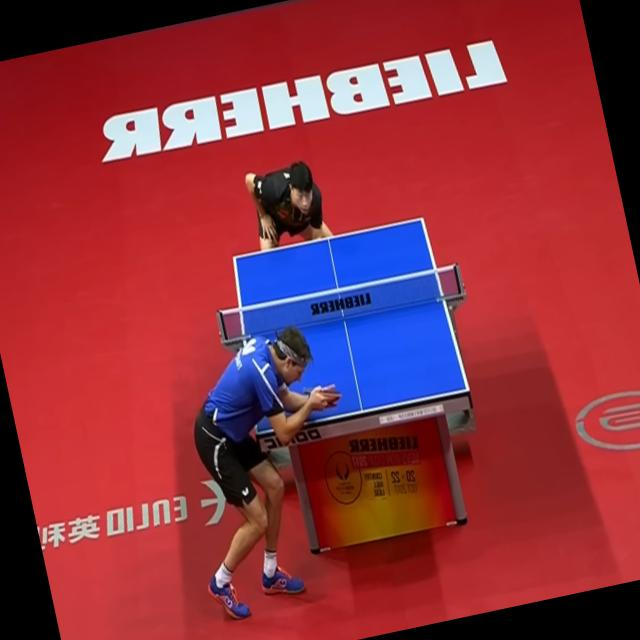TT Net: (215, 261, 466, 353)
TT Racket: (301, 377, 345, 408)
TT Table: (217, 214, 470, 436)
